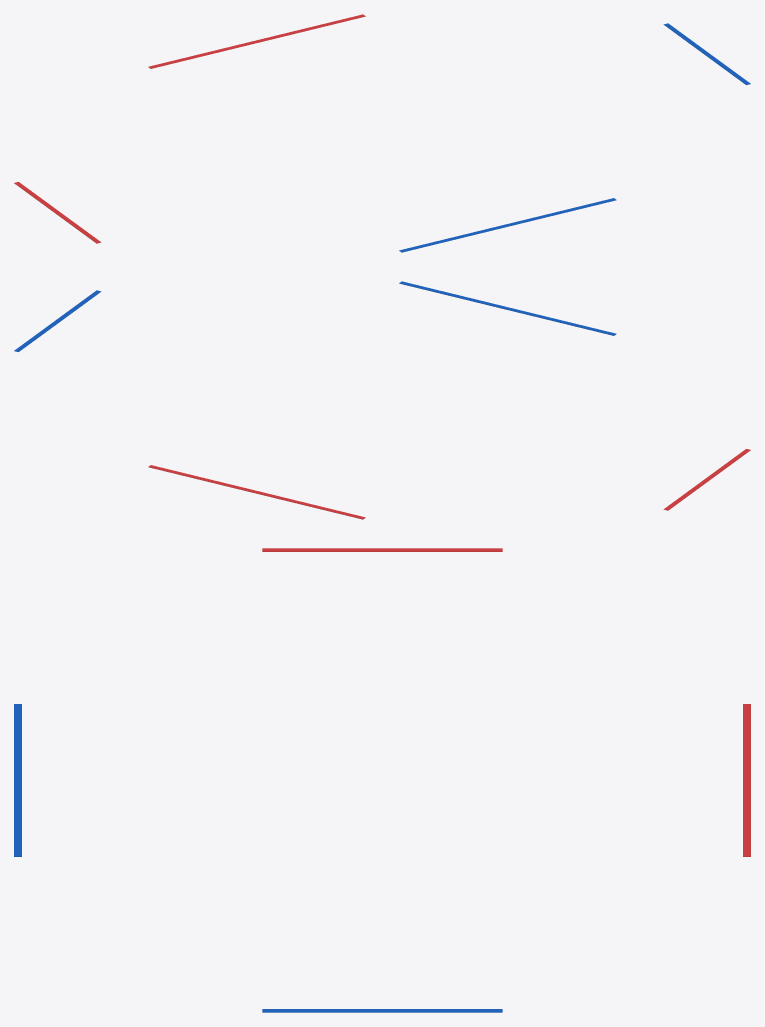
3 views of the same model, one above another, from view 1: azimuth 30°, elevation 25°; view 2: azimuth 150°, elevation 25°; view 3: azimuth 270°, elevation 25° (orthographic). The views are drawn at different scales.
Size of the model in its own units: 139 by 0.05 by 93.44.
Materials: 2 (2 with a texture image).
